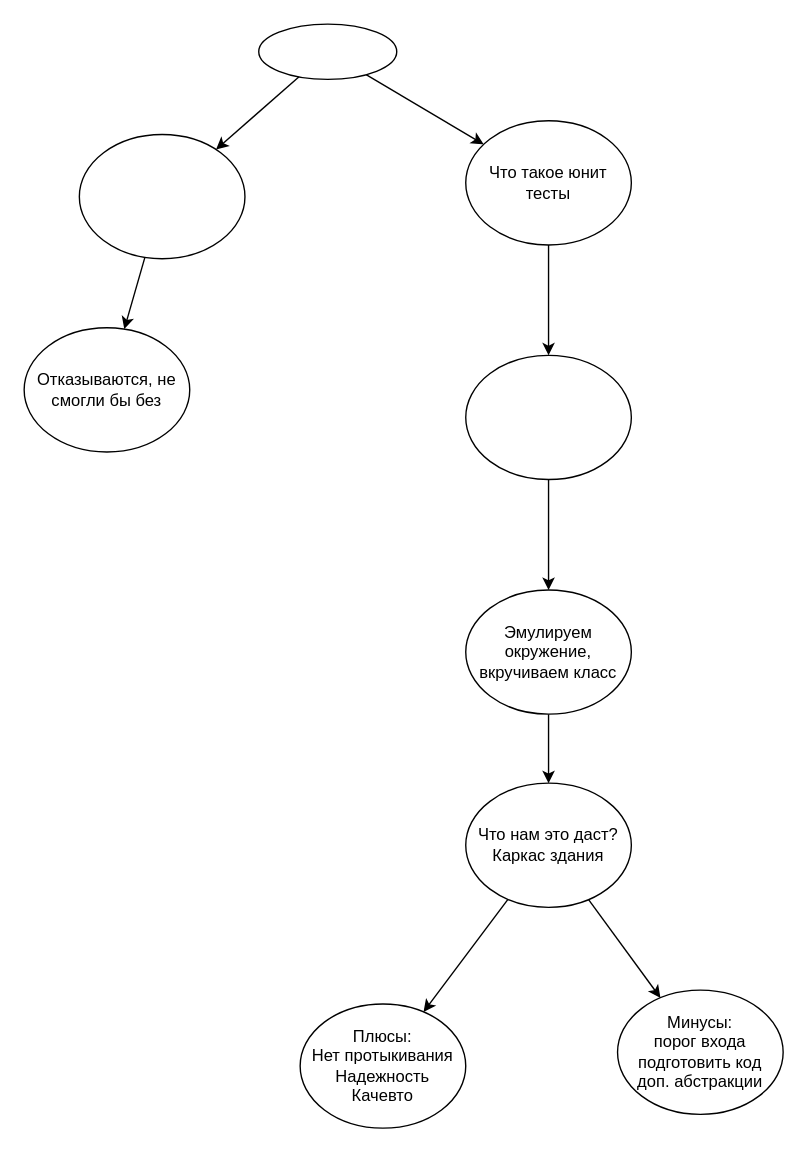
Some shapes in this 807 by 1152 pixel diagram are drawn without their labels. The box of each missing label's shape, as (x1, y1, x2, y2) in pixels:
Ваше мнение про юнит тесты (кто юзает): (78, 133, 245, 259)
Лампочка, программа вкручиваем: (464, 354, 631, 480)
Привет!: (257, 23, 397, 79)
